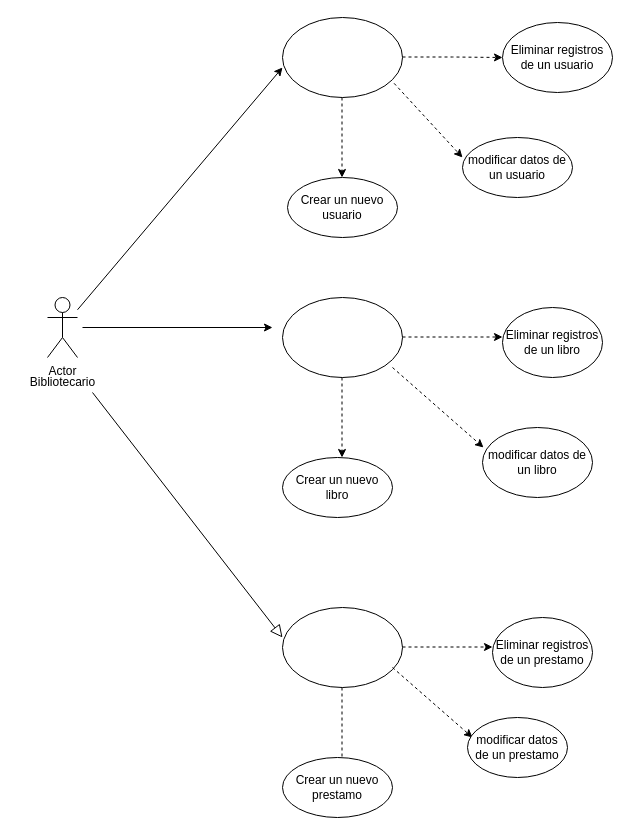
The diagram is 630 pixels wide and 835 high, and some of its shapes have lost their labels. The centre of each missing label's shape, as x and y in pixels:
"Gestionar datos de libros" belongs at [342,337].
"Gestionar datos de usuario" belongs at [342,57].
"Gestionar Prestamos" belongs at [342,647].
